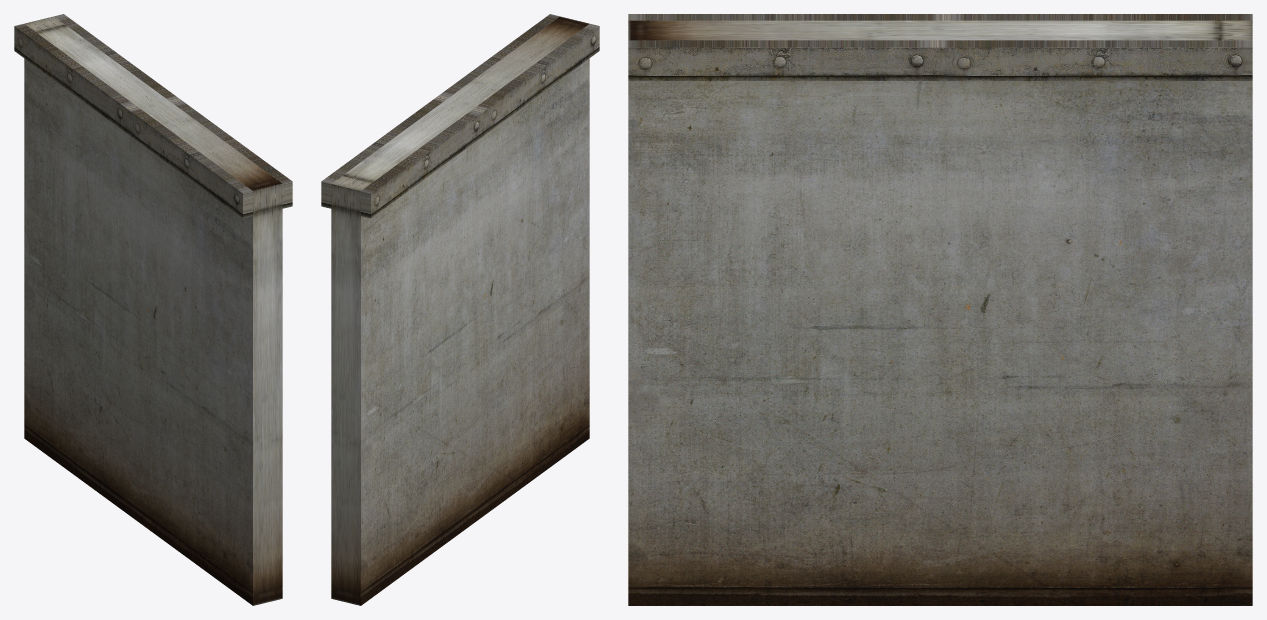
The model's file is modular wall concrete.FBX.
3 renders of one model, left to right at view 1: azimuth 30°, elevation 25°; view 2: azimuth 150°, elevation 25°; view 3: azimuth 270°, elevation 25°, orthographic. The views are drawn at different scales.
Parts seen in each view (by area): view 1: Box001; view 2: Box001; view 3: Box001.
Boxes of the visible parts, x1,y1,x2,y2 form: Box001: [14, 14, 292, 605]; Box001: [321, 14, 599, 605]; Box001: [628, 14, 1252, 605].
Bounding box in the file's own units: 50 × 400 × 400.
